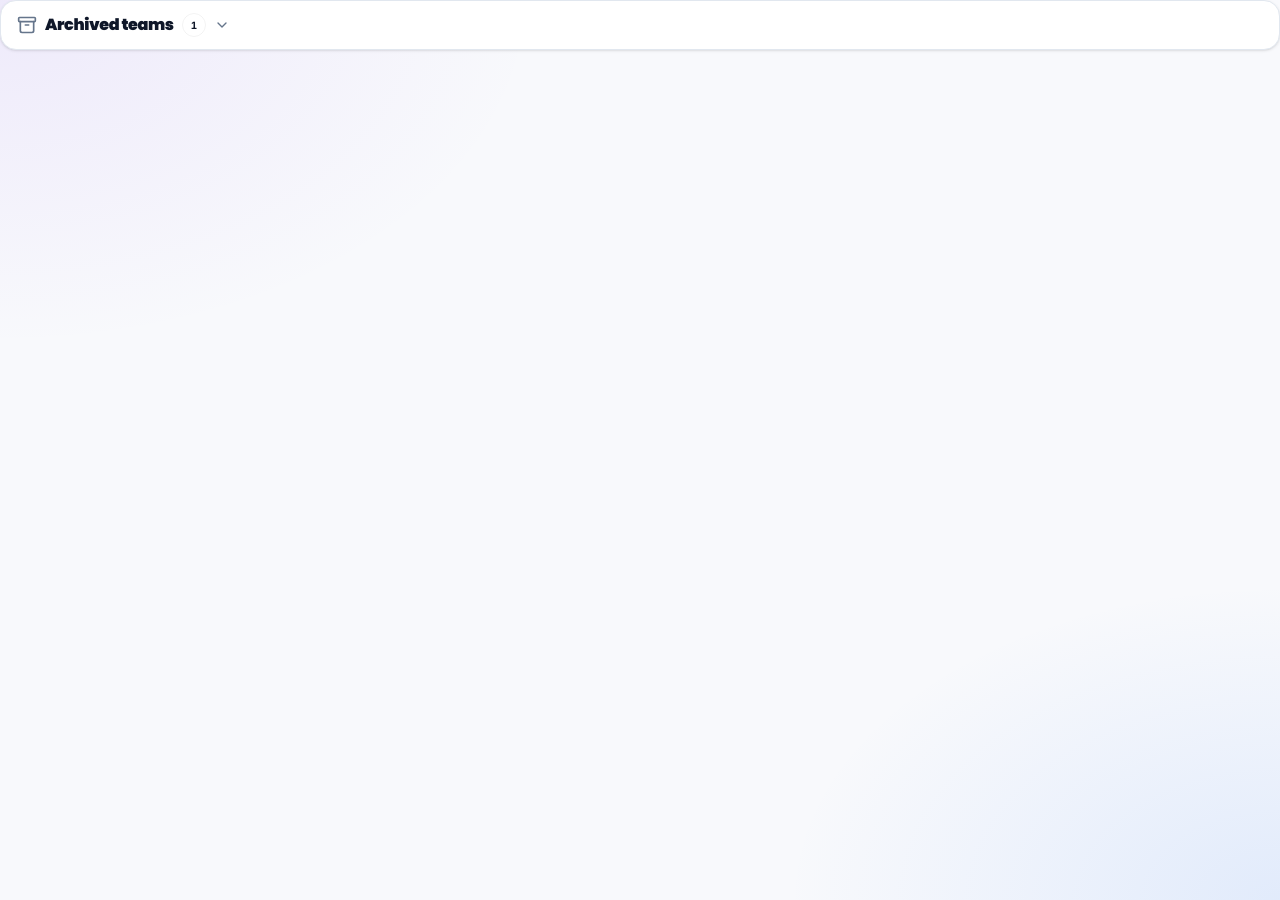
Test: OrganizationPage — admin control gating › keeps archived team names tucked away until a manager opens the section
Expected: the text "EP3 U17B National 1" is not shown
Click the button with test id "btn-toggle-archived-teams". click: point(123, 25)
box: x1=17 y1=13 x2=230 y2=37
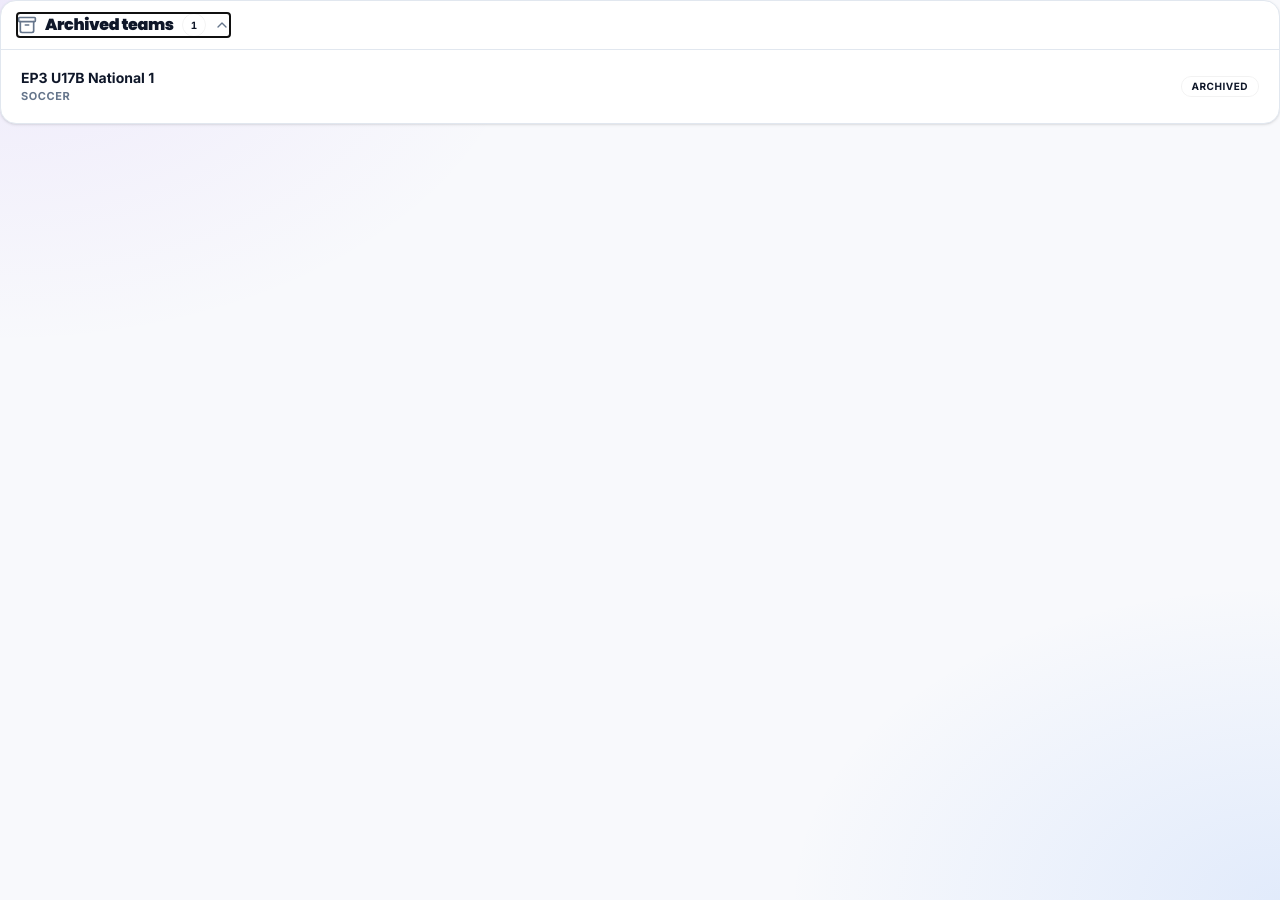
Now the button with test id "btn-toggle-archived-teams" is expanded, box x1=17 y1=13 x2=230 y2=37
Now the text "EP3 U17B National 1" is shown, box x1=21 y1=68 x2=154 y2=88
